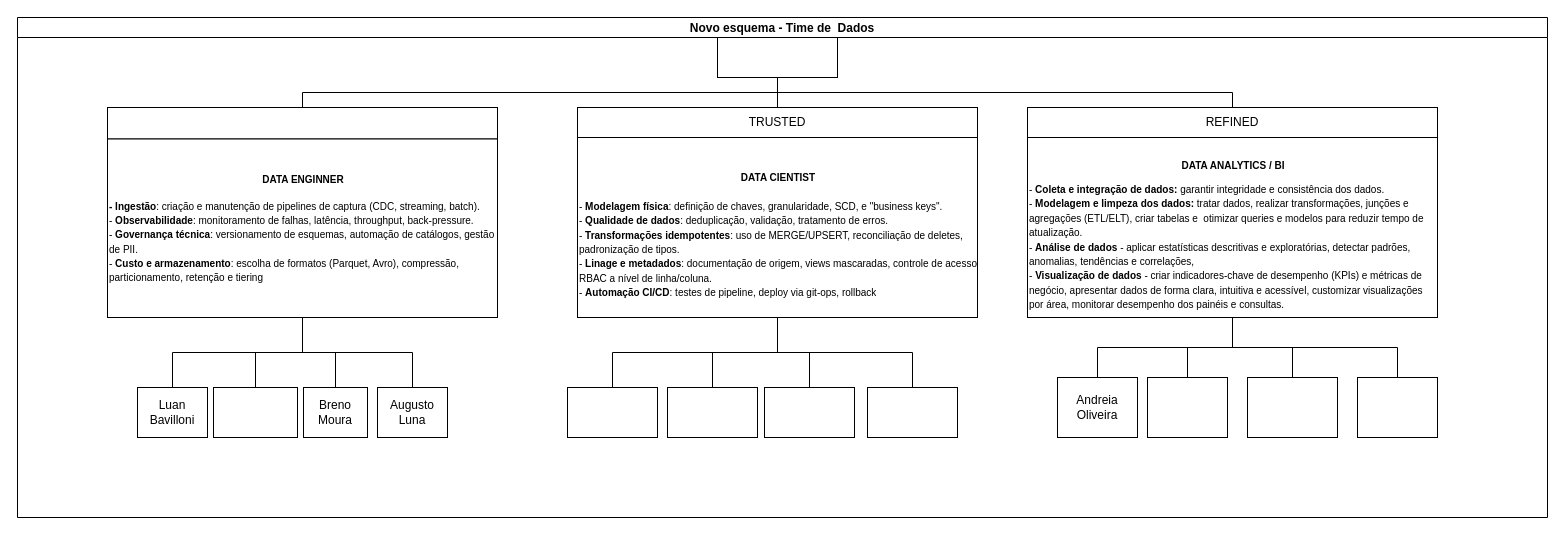
This 1565x535 diagram has some shape labels left out. Here are the shapes that lost their labels. From the top down, the box of each, then its label:
(716, 36, 838, 78): KENIA
(106, 106, 498, 139): RAW
(212, 386, 298, 438): Gabrielle Sacramento
